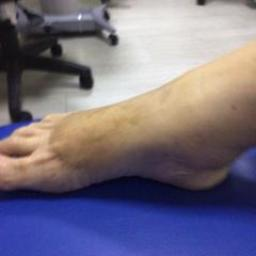Medial View -Right Foot-: (1, 50, 255, 209)
